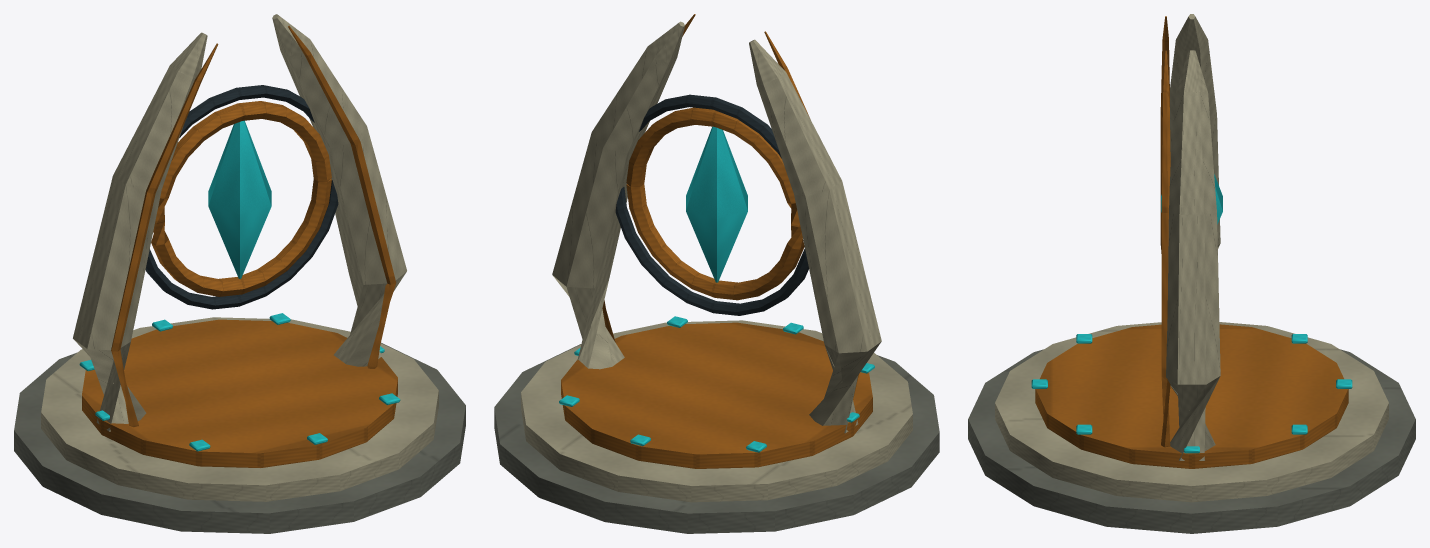
The model's file is Protetor_da_praca_LOD0.fbx.
3 views of the same model, side by side, from view 1: azimuth 30°, elevation 25°; view 2: azimuth 150°, elevation 25°; view 3: azimuth 270°, elevation 25° (orthographic).
Parts seen in each view (by area): view 1: Protetor_da_praca_LOD0; view 2: Protetor_da_praca_LOD0; view 3: Protetor_da_praca_LOD0.
Boxes of the visible parts, x1,y1,x2,y2 form: Protetor_da_praca_LOD0: [14, 14, 465, 533]; Protetor_da_praca_LOD0: [494, 14, 939, 533]; Protetor_da_praca_LOD0: [968, 14, 1415, 533].
Size of the model in its own units: 500 by 502 by 500.
1 material, 1 textured.
